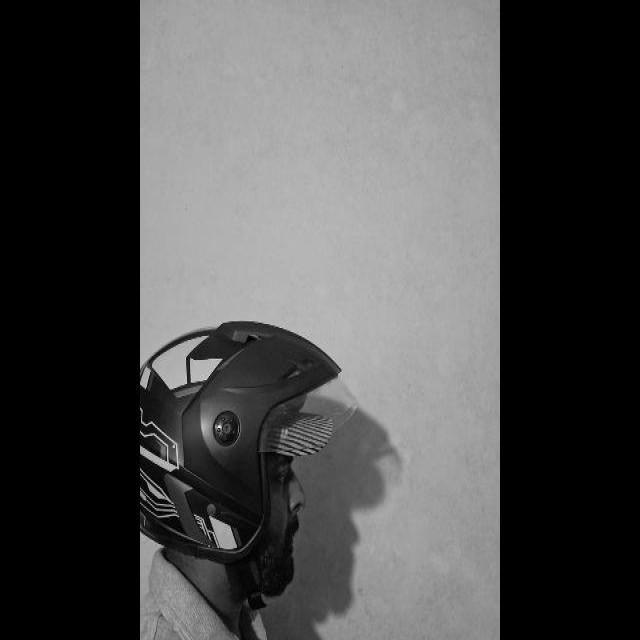5_casco: (140, 322, 358, 563)
